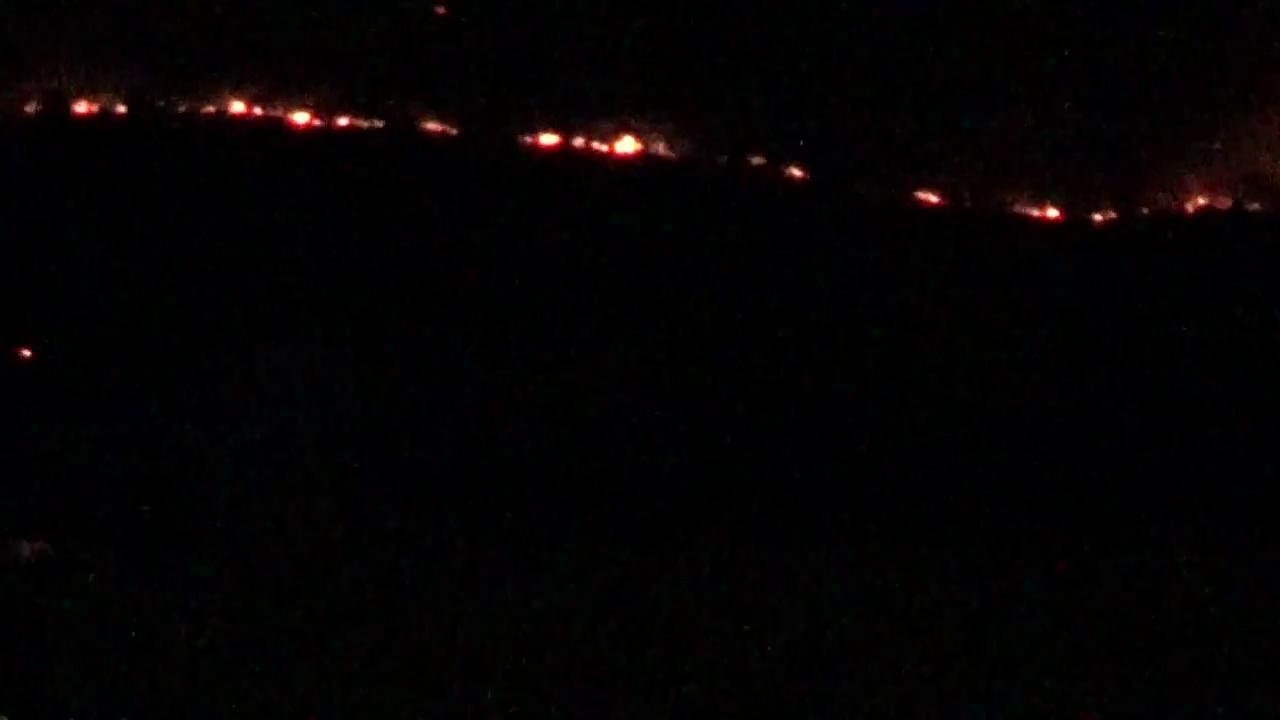fire: (540, 128, 656, 156), (228, 96, 322, 126)
